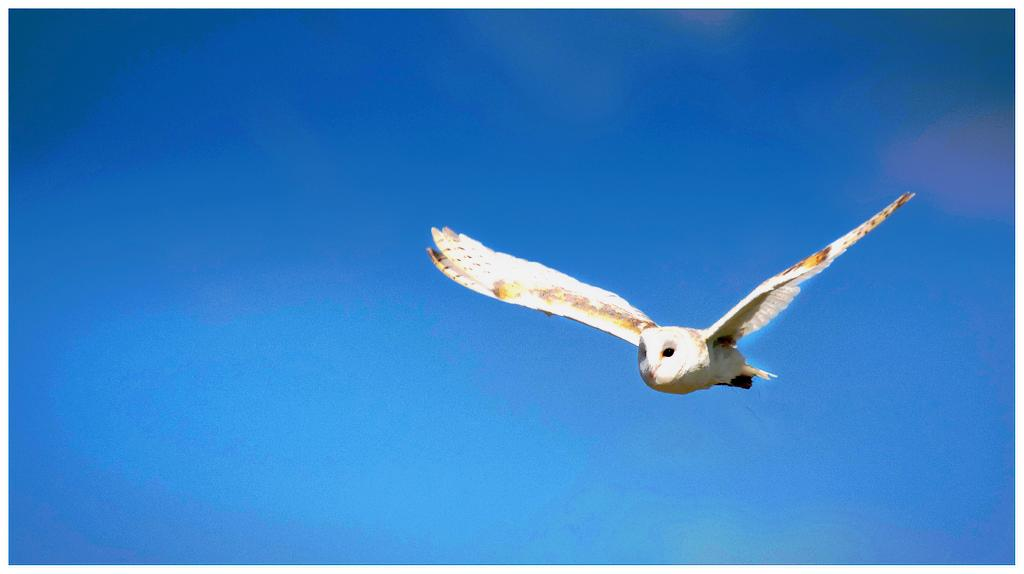Owl: (426, 191, 919, 398)
